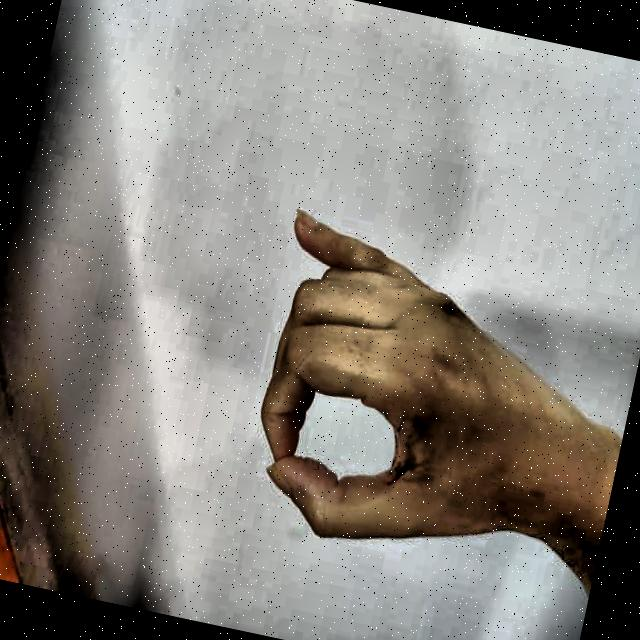Ou: (196, 154, 616, 616)
